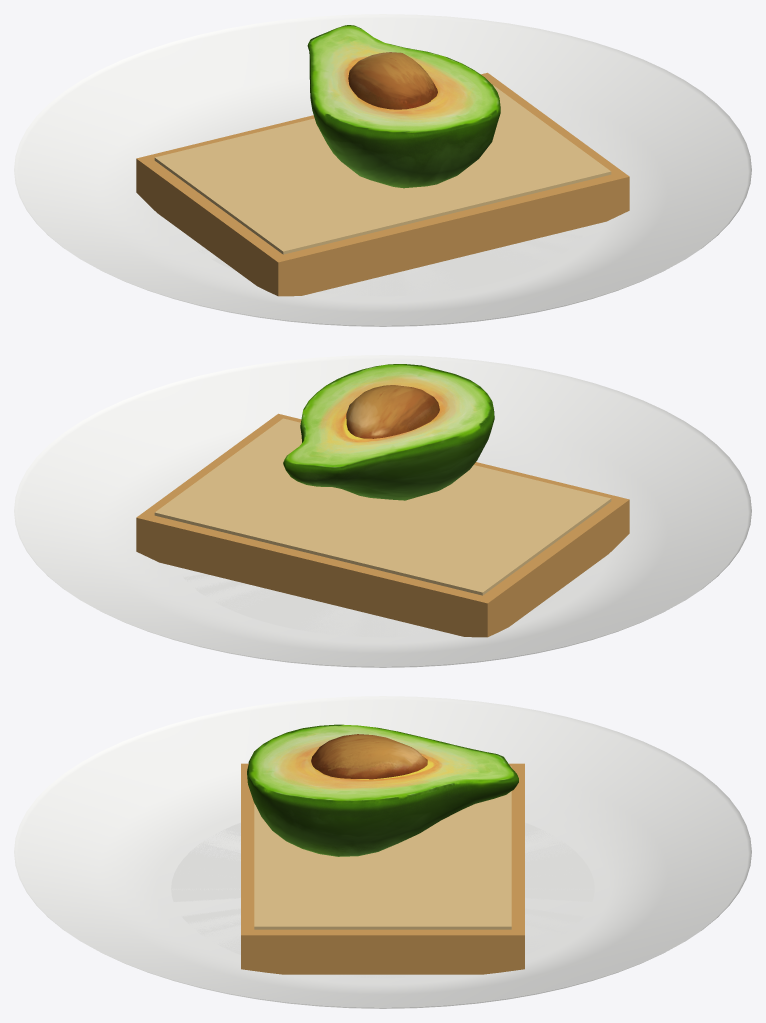
Rendered from palta.glb.
The picture shows the model from 3 angles, top to bottom: view 1: azimuth 30°, elevation 25°; view 2: azimuth 150°, elevation 25°; view 3: azimuth 270°, elevation 25°; orthographic projection.
Visible parts, largest first — view 1: object 3, object 5, object 4, Avocado, object 2; view 2: object 3, object 5, object 4, Avocado, object 2; view 3: object 3, object 5, Avocado, object 4, object 2.
Part boxes in pixels (x1,y1,x2,y2): object 3: [14, 14, 751, 326]; object 5: [154, 85, 611, 254]; object 4: [136, 72, 629, 296]; Avocado: [307, 25, 500, 188]; object 2: [195, 233, 582, 296]; object 3: [14, 355, 751, 667]; object 5: [154, 418, 611, 595]; object 4: [136, 413, 629, 637]; Avocado: [283, 364, 494, 500]; object 2: [183, 573, 568, 637]; object 3: [14, 696, 751, 1008]; object 5: [254, 766, 511, 929]; Avocado: [247, 724, 518, 856]; object 4: [241, 763, 524, 974]; object 2: [171, 822, 594, 978].
Bounding box in the file's own units: 0.2727 × 0.0662 × 0.2727.
Materials: 5 (1 with a texture image).
